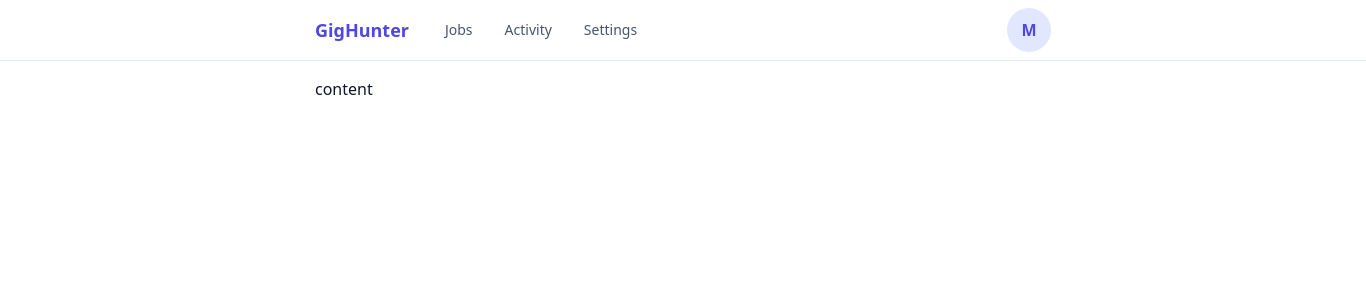
Scenario: AppShell › keeps Profile in the account menu, not in the main navigation
This screenshot has width=1366, height=297.
Check: the link "profile" is not shown
Click the button named "account menu": (1029, 30) x1=1007 y1=8 x2=1051 y2=52
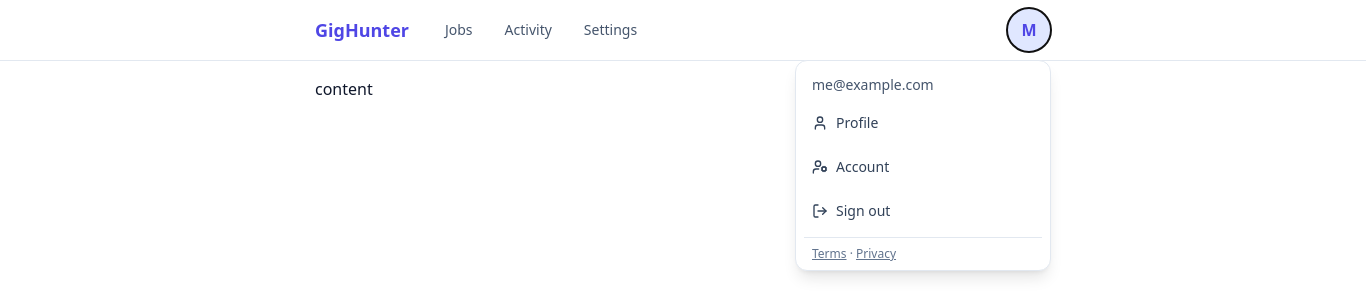
Click the menu item "Profile": (845, 122) x1=812 y1=113 x2=878 y2=132
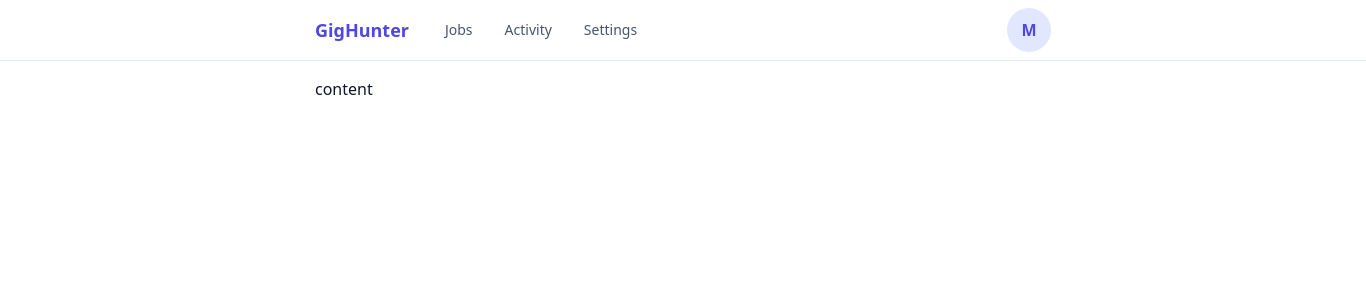
Check: the menu item "Profile" is gone
